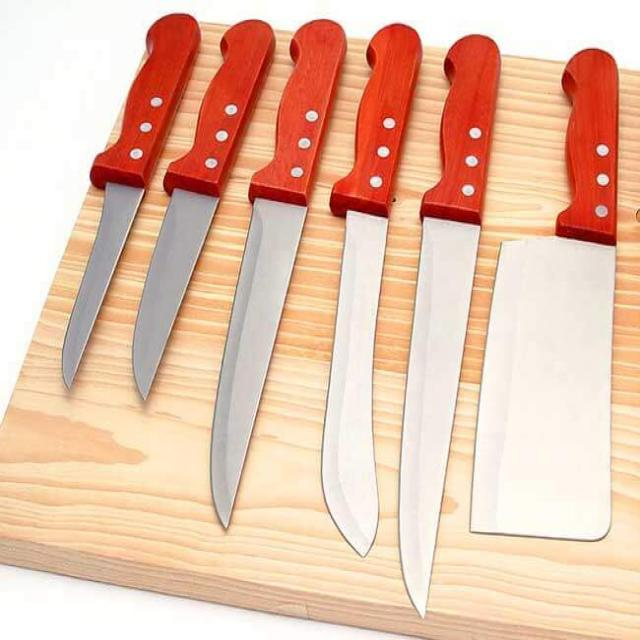Pisau: (388, 30, 507, 633)
